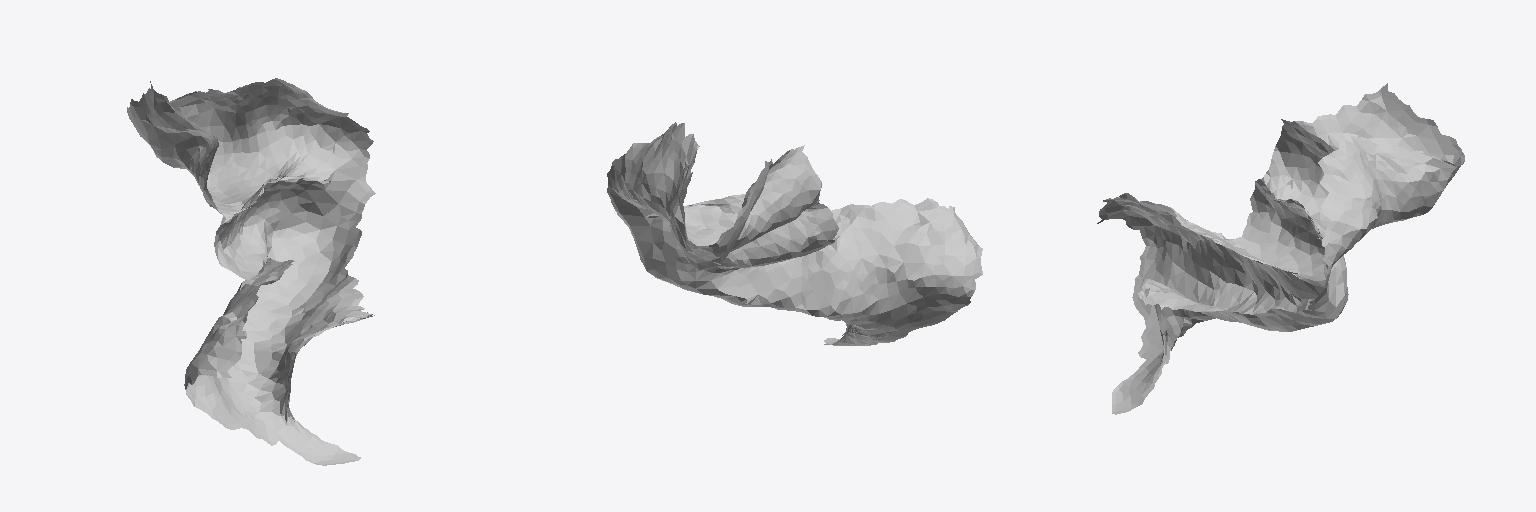
The model's file is R_occipital_superior.obj.
The picture shows the model from 3 angles: view 1: azimuth 30°, elevation 25°; view 2: azimuth 150°, elevation 25°; view 3: azimuth 270°, elevation 25°; orthographic projection.
Visible parts, largest first — view 1: R_occipital_superior_L_occipital_superior; view 2: R_occipital_superior_L_occipital_superior; view 3: R_occipital_superior_L_occipital_superior.
Boxes of the visible parts, box(x1,y1,x2,y2) form: R_occipital_superior_L_occipital_superior: box(127, 78, 375, 465); R_occipital_superior_L_occipital_superior: box(607, 122, 982, 345); R_occipital_superior_L_occipital_superior: box(1097, 83, 1464, 414).
Bounding box in the file's own units: 105 × 107 × 121.